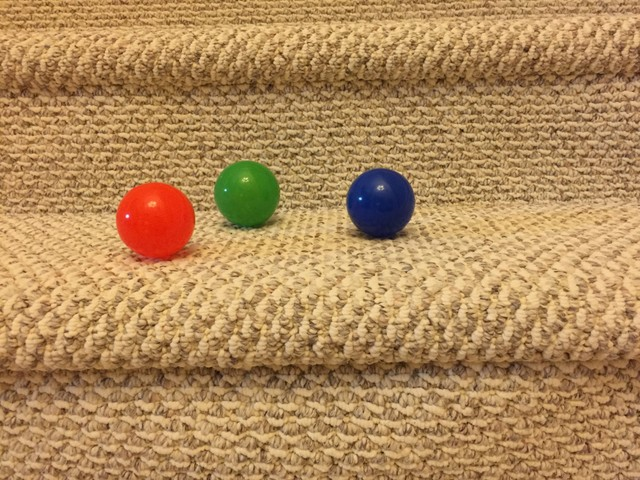Ball: (217, 162, 281, 229)
